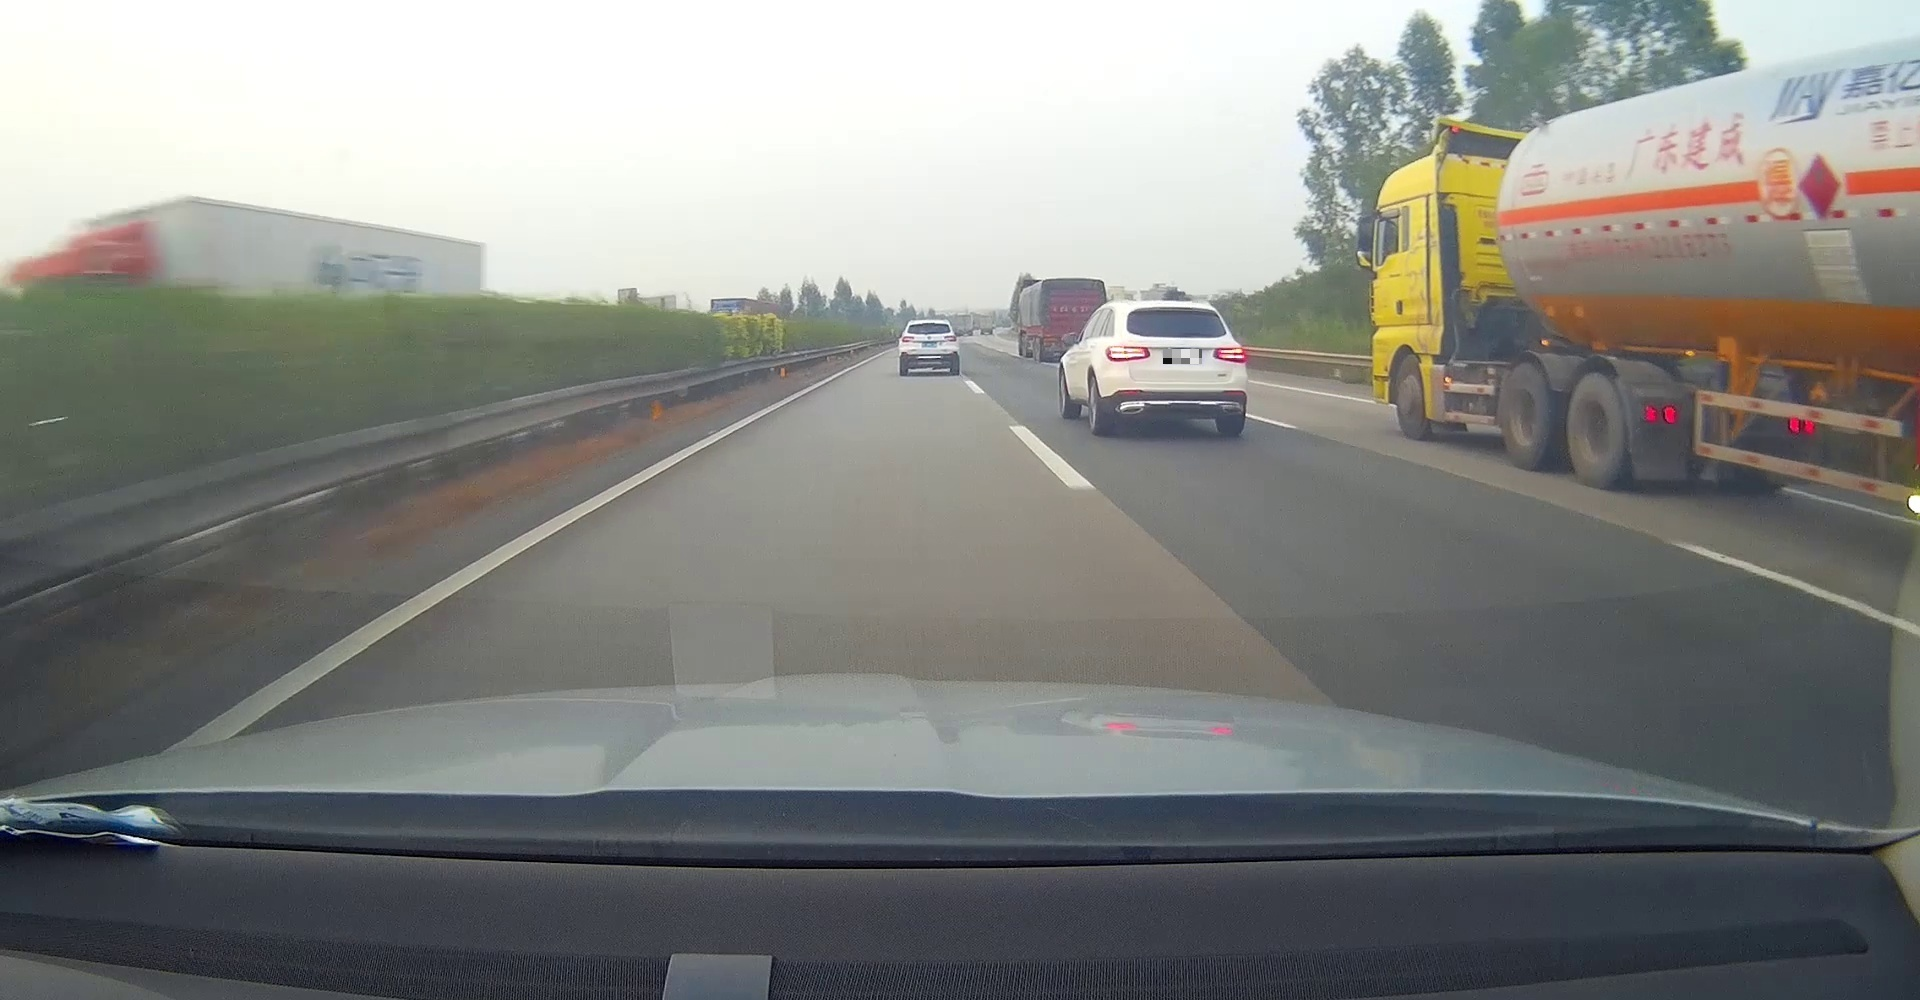L_light: (1105, 344, 1150, 360), (1211, 346, 1244, 363), (902, 335, 914, 341)
R_light: (943, 335, 957, 341)
T_light: (1161, 306, 1192, 311), (921, 324, 936, 325)
day-no: (1101, 302, 1247, 437), (898, 319, 961, 376)
plate_1: (1163, 349, 1203, 364)
